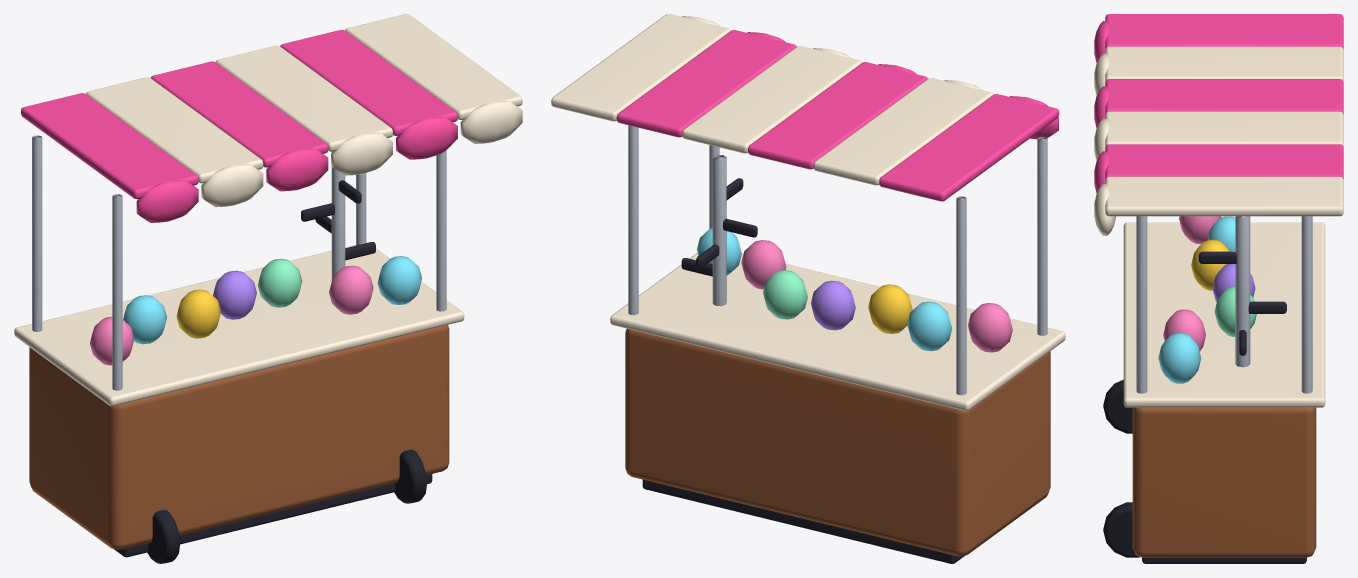
Rendered from mall_cart.glb.
The picture shows the model from 3 angles, left to right: view 1: azimuth 30°, elevation 25°; view 2: azimuth 150°, elevation 25°; view 3: azimuth 270°, elevation 25°; orthographic projection. The views are drawn at different scales.
Visible parts, largest first — view 1: Cart; view 2: Cart; view 3: Cart.
Boxes of the visible parts, <box> form: Cart: <box>14,14,522,563</box>; Cart: <box>551,14,1065,563</box>; Cart: <box>1094,14,1343,563</box>.
Size of the model in its own units: 2.62 by 2.42 by 1.36.
